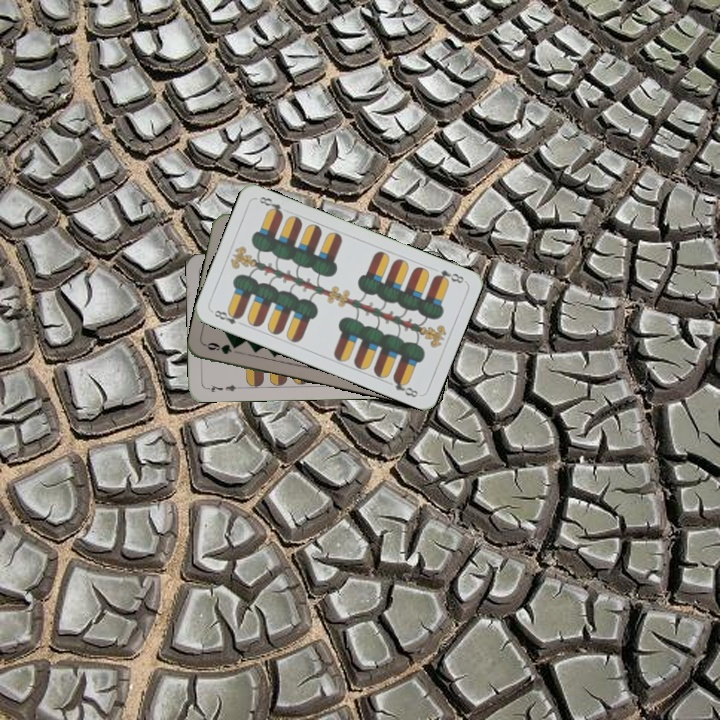E7: (203, 381, 243, 395)
E8: (210, 306, 247, 328), (429, 266, 467, 286)
G9: (202, 338, 234, 357)
